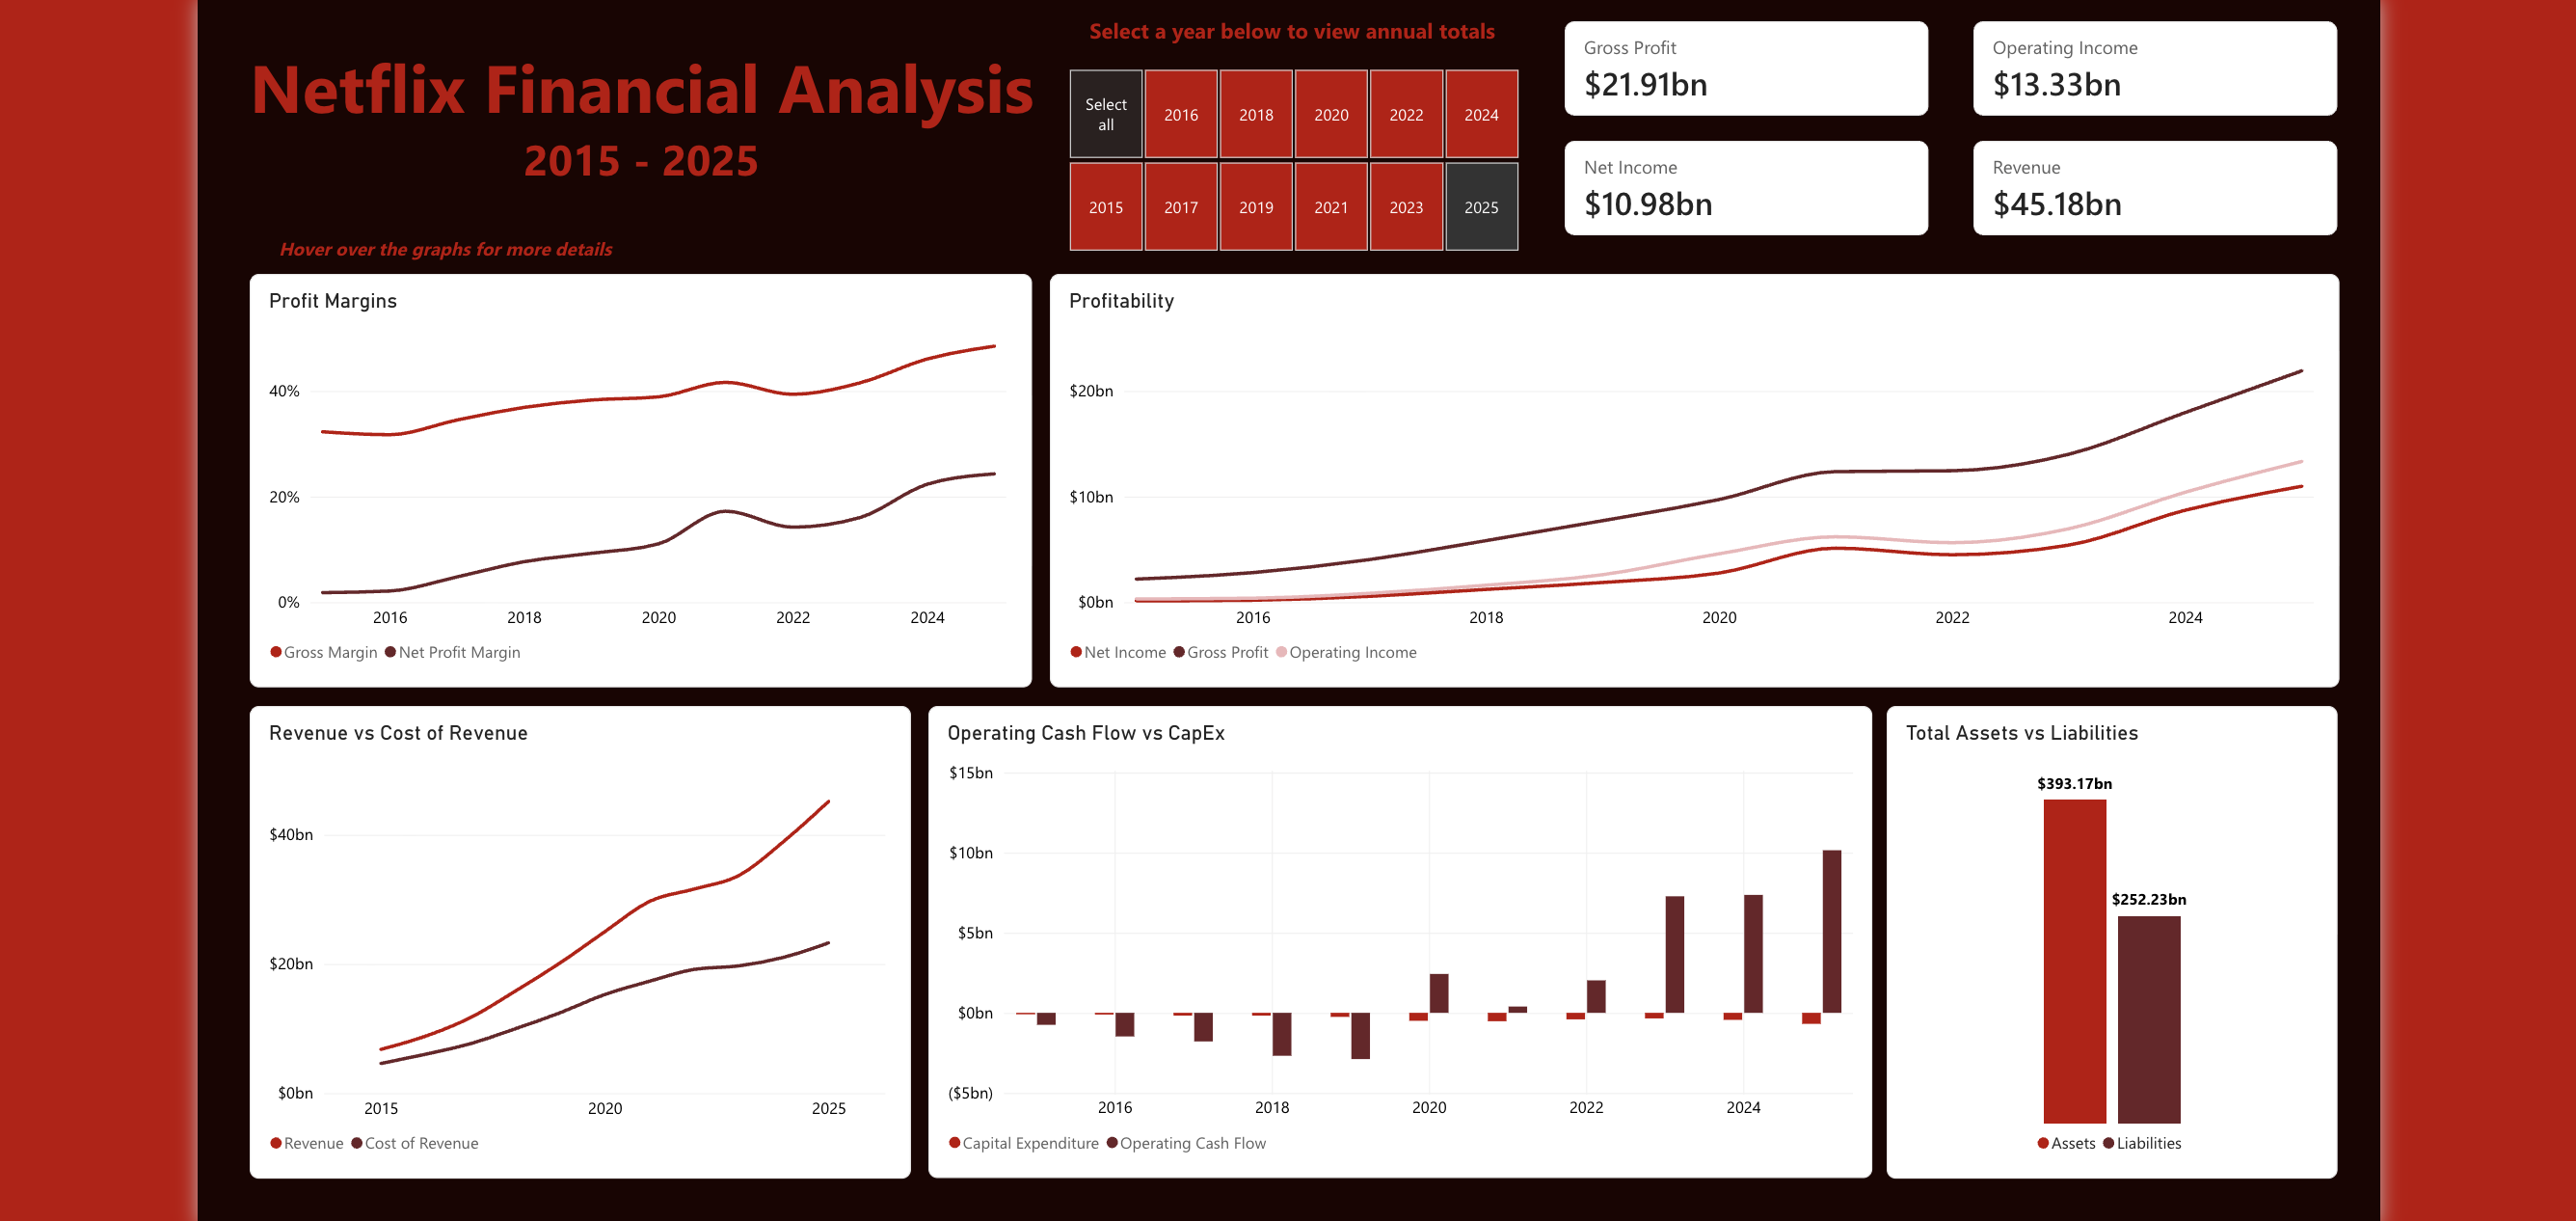

What the dashboard file says about the page in this screenshot:
{"tool":"powerbi","page":{"name":"Financials Dashboard","canvas":[1920,1080],"ordinal":0},"visuals":[{"type":"slicer","fields":{"Values":["$$$.Year"]},"box":[746.8,60.9,434.3,163.1],"z":0},{"type":"lineChart","title":"Revenue vs Cost of Revenue","fields":{"Category":["$$$.Year"],"Y":["$$$.Revenue","$$$.Cost of Revenue"]},"box":[45.1,621.8,581.5,415.3],"z":1000},{"type":"lineChart","title":"Profitability","fields":{"Category":["$$$.Year"],"Y":["$$$.Net Income","$$$.Gross Profit","$$$.Operating Income"]},"box":[748.7,241.7,1133.9,363.6],"z":2000},{"type":"clusteredColumnChart","title":"Total Assets vs Liabilities","fields":{"Y":["$$$.Assets","$$$.Liabilities"]},"box":[1485.7,621.8,396.3,415.3],"z":3000},{"type":"clusteredColumnChart","title":"Operating Cash Flow vs CapEx","fields":{"Category":["$$$.Year"],"Y":["$$$.Capital Expenditure","$$$.Operating Cash Flow"]},"box":[643.3,621.8,830.2,415.1],"z":4000},{"type":"cardVisual","fields":{"Data":["$$$.Revenue"]},"box":[1562.3,125.8,320.4,83.1],"z":5000},{"type":"cardVisual","fields":{"Data":["$$$.Net Income"]},"box":[1202.7,125.8,320.4,83.1],"z":6000},{"type":"cardVisual","title":"Total Gross Profit","fields":{"Data":["$$$.Gross Profit"]},"box":[1202.7,19.7,320.4,83.1],"z":7000},{"type":"lineChart","title":"Profit Margins","fields":{"Category":["$$$.Year"],"Y":["$$$.Gross Margin","$$$.Net Profit Margin"]},"box":[45.2,241.7,687.8,363.6],"z":8000},{"type":"cardVisual","fields":{"Data":["$$$.Operating Income"]},"box":[1562.3,19.7,320.4,83.1],"z":9000},{"type":"textbox","box":[31.4,37.3,716.7,147.1],"z":10000},{"type":"textbox","box":[760.5,15.7,402.9,43.2],"z":11000},{"type":"textbox","box":[45.3,207.8,343.7,32.9],"z":12000}]}

Visuals, with their boxes on the page's 1920x1080 design canvas (x1, y1, x2, y2). These are canvas units, not pixel positions in the 2576x1221 screenshot, which may show the page scaled, cropped or inside an application window:
slicer - $$$.Year: detection(747, 61, 1181, 224)
"Revenue vs Cost of Revenue" lineChart: detection(45, 622, 627, 1037)
"Profitability" lineChart: detection(749, 242, 1883, 605)
"Total Assets vs Liabilities" clusteredColumnChart: detection(1486, 622, 1882, 1037)
"Operating Cash Flow vs CapEx" clusteredColumnChart: detection(643, 622, 1474, 1037)
cardVisual - $$$.Revenue: detection(1562, 126, 1883, 209)
cardVisual - $$$.Net Income: detection(1203, 126, 1523, 209)
"Total Gross Profit" cardVisual: detection(1203, 20, 1523, 103)
"Profit Margins" lineChart: detection(45, 242, 733, 605)
cardVisual - $$$.Operating Income: detection(1562, 20, 1883, 103)
textbox: detection(31, 37, 748, 184)
textbox: detection(760, 16, 1163, 59)
textbox: detection(45, 208, 389, 241)
